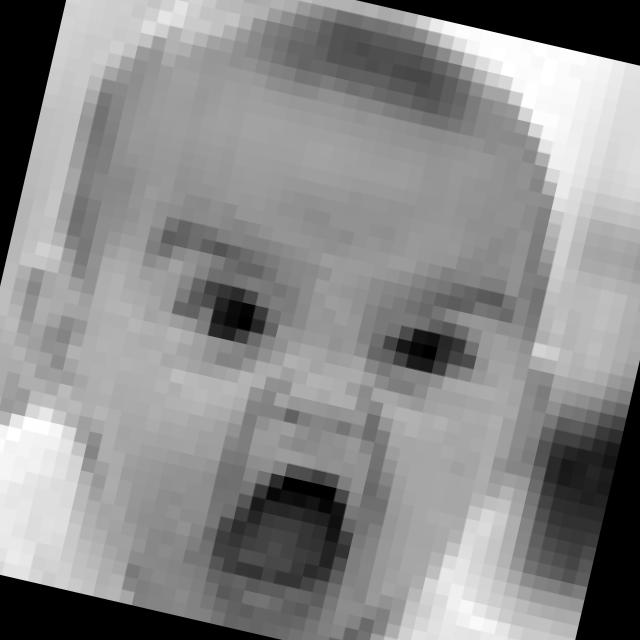angry: (69, 211, 521, 640)
